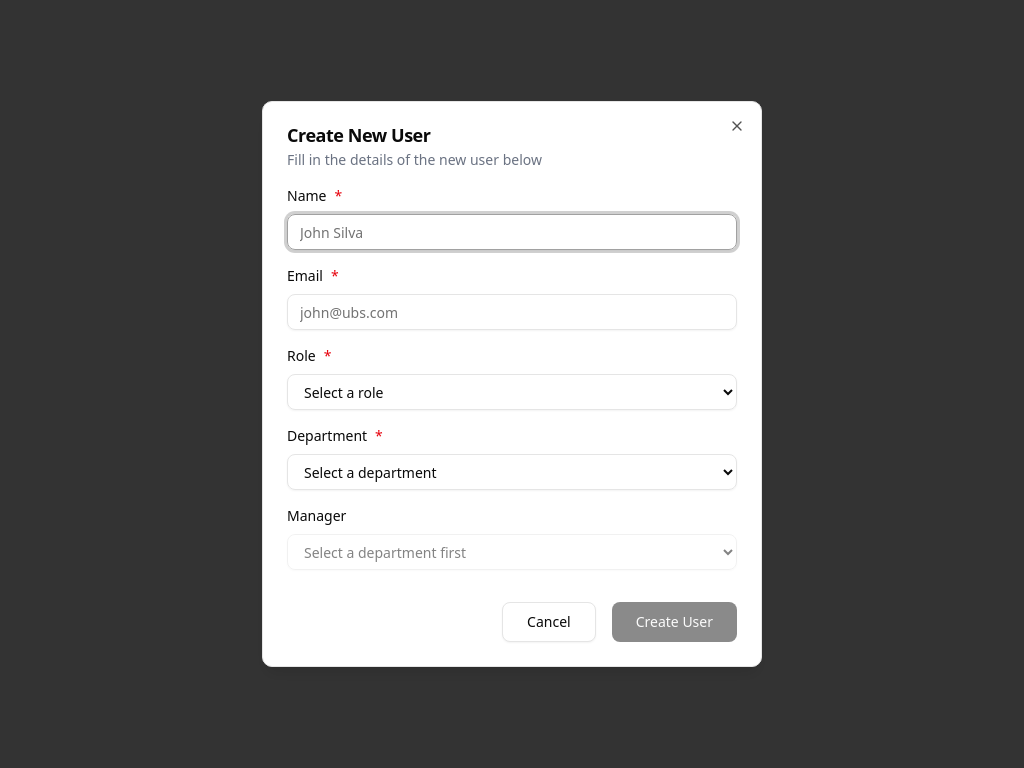
CreateUserDialog › shows validation error for empty name
The width and height of the screenshot is (1024, 768).
Step 1. Type "test" into the field labelled "Name *" → [512, 232], box [287,214,737,250]
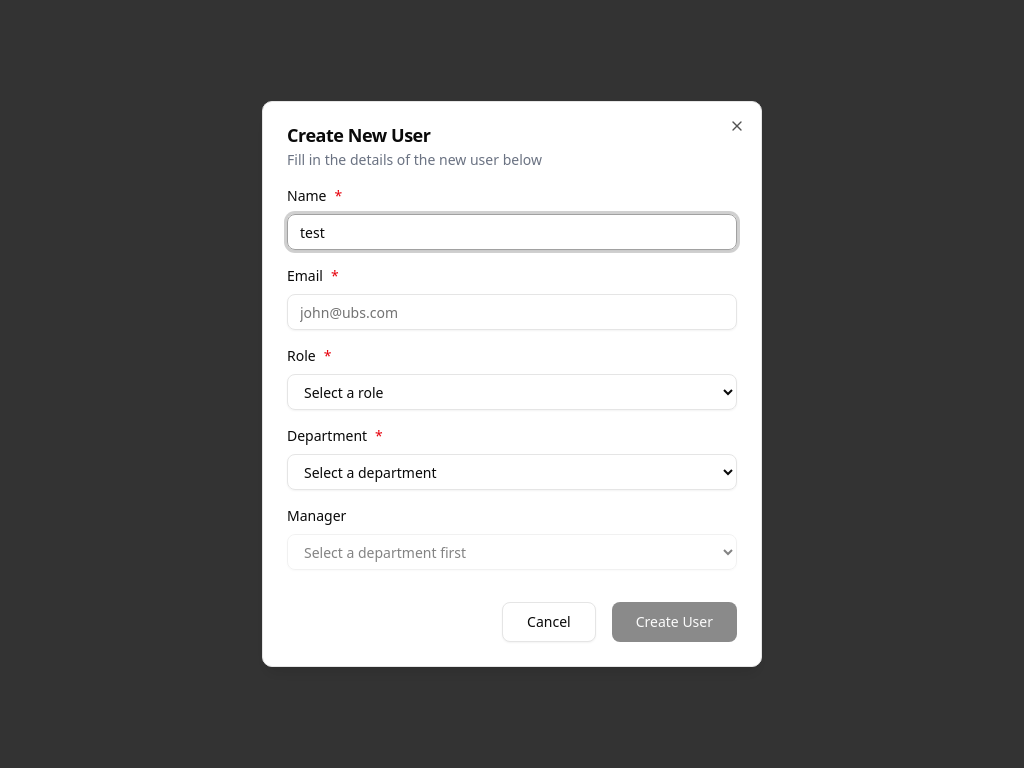
Step 2. Clear the field labelled "Name *" → [512, 232], box [287,214,737,250]
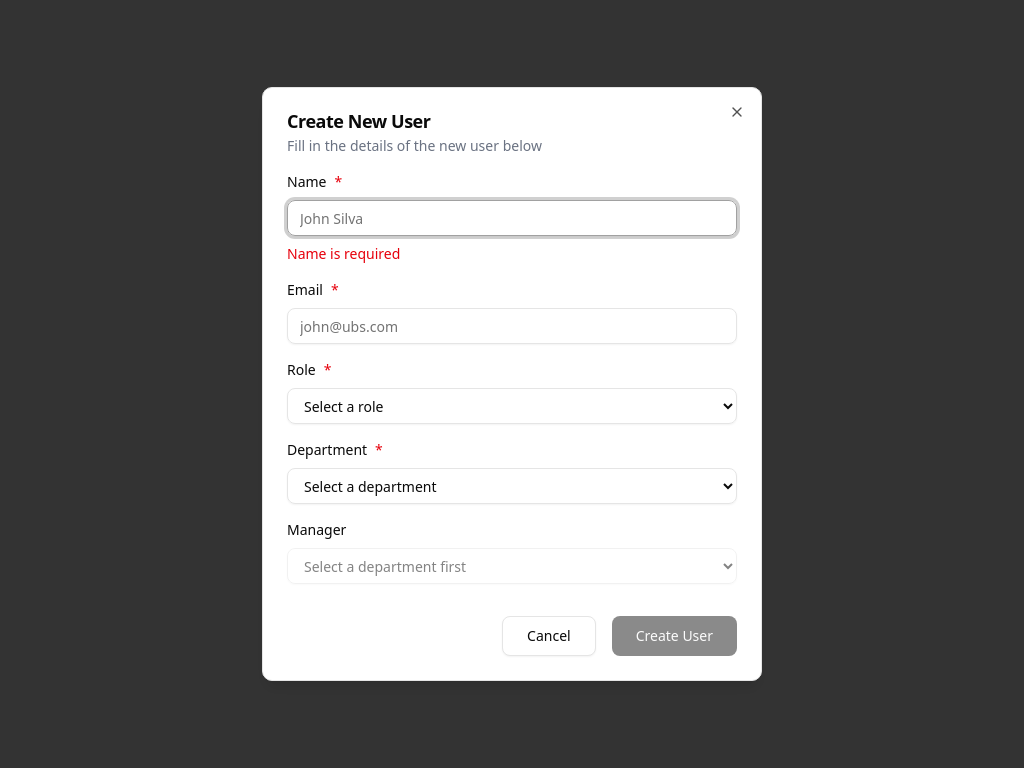
Now the text "Name is required" is shown, box [287,244,400,263]
